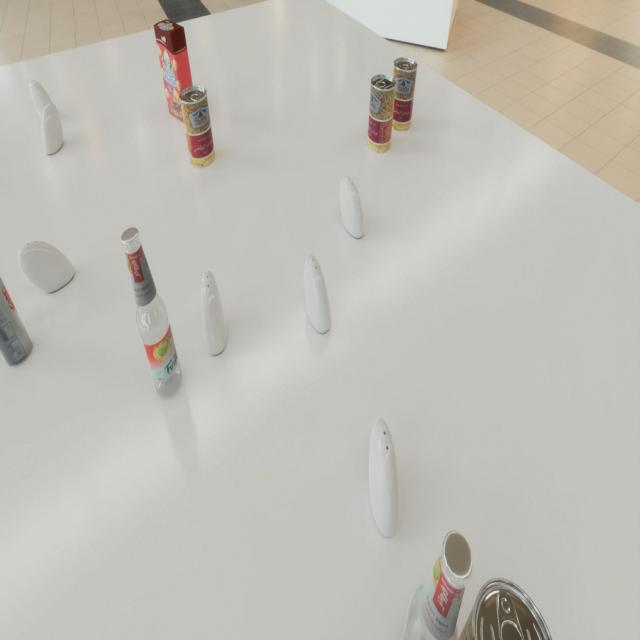Bottle: (121, 227, 182, 399)
HelloPanda: (154, 19, 197, 124)
Potato_sticks: (180, 86, 216, 168), (367, 74, 396, 153), (389, 57, 417, 132)
Salt: (368, 418, 401, 537), (17, 241, 74, 292), (201, 270, 227, 355), (304, 254, 331, 333), (340, 176, 365, 238), (29, 80, 58, 122), (42, 102, 64, 154)
